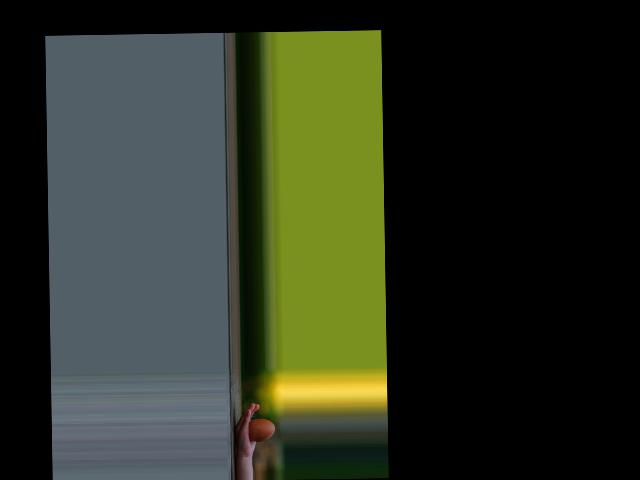egg: (248, 418, 275, 442)
